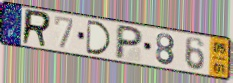6: (184, 36, 206, 73)
7: (53, 14, 75, 51)
8: (155, 33, 176, 67)
D: (85, 18, 113, 56)
P: (113, 23, 145, 61)
R: (20, 8, 53, 50)
